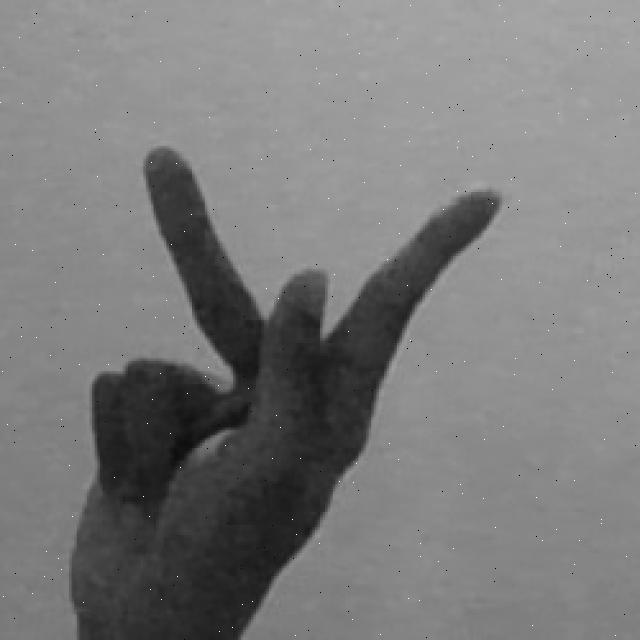K: (64, 141, 512, 640)
